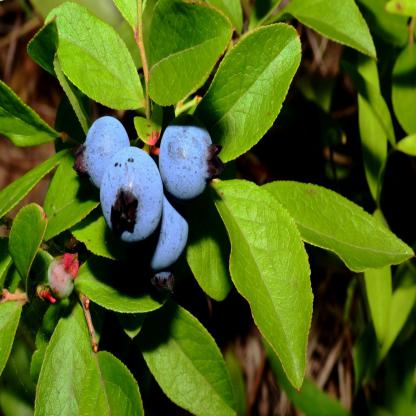blueberry leaf: (207, 171, 316, 382), (262, 166, 415, 285), (196, 21, 310, 176), (32, 7, 152, 132), (131, 290, 241, 416), (34, 298, 147, 416), (138, 2, 240, 127), (0, 80, 77, 153)
